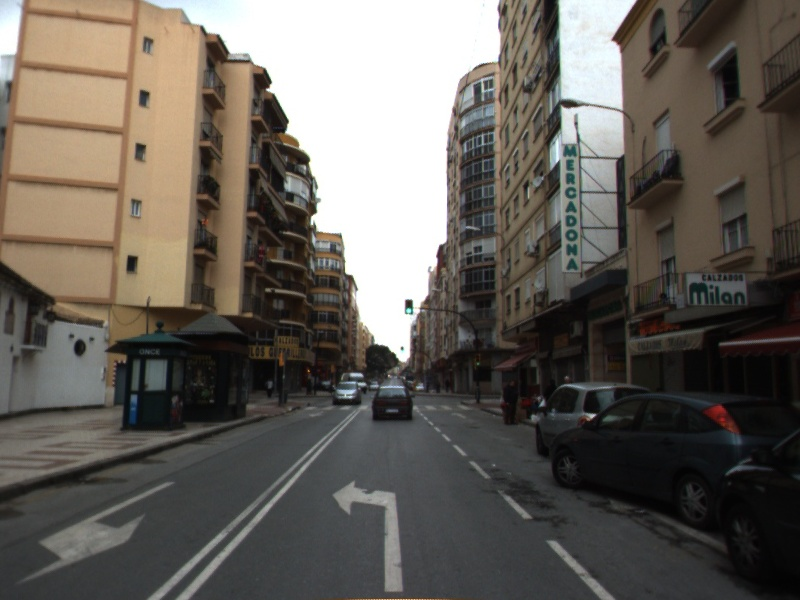LEFT: (331, 478, 405, 593)
